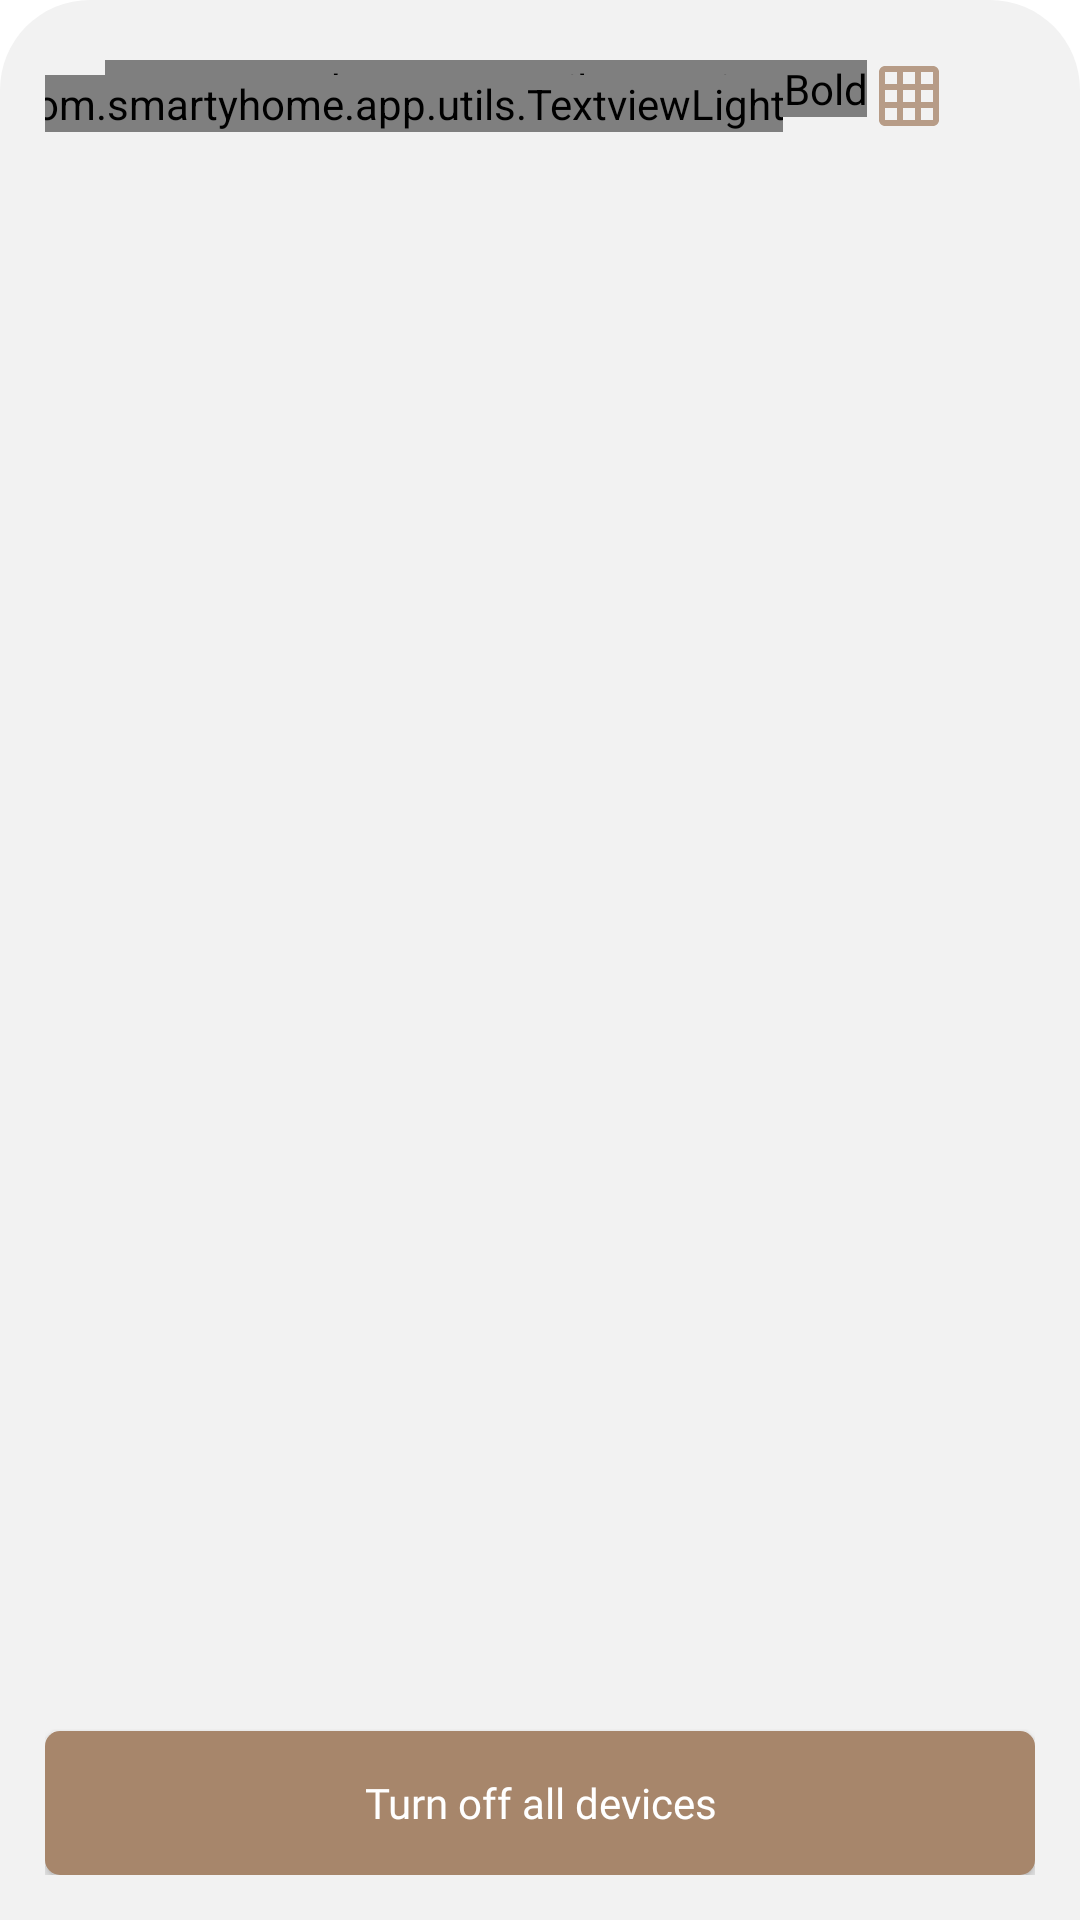

Where icons sit on this 1080px x 1920px app screen, as (x1, y1, x2, y2):
change view: (879, 66, 939, 126)
